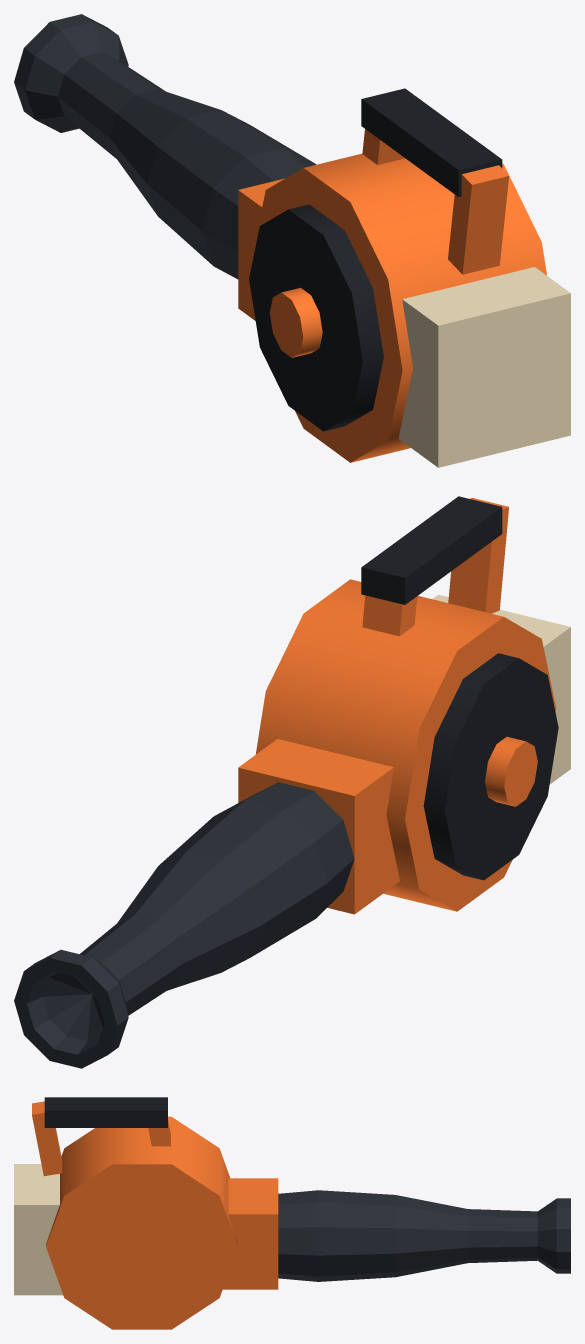
Rendered from leaf_blower.glb.
3 renders of one model, top to bottom at view 1: azimuth 30°, elevation 25°; view 2: azimuth 150°, elevation 25°; view 3: azimuth 270°, elevation 25°, orthographic. The views are drawn at different scales.
Visible parts, largest first — view 1: Merged; view 2: Merged; view 3: Merged.
Boxes of the visible parts, x1,y1,x2,y2 form: Merged: (14,14,570,467); Merged: (14,496,570,1068); Merged: (14,1097,570,1329).
Bounding box in the file's own units: 0.198 × 0.3103 × 0.7755.
